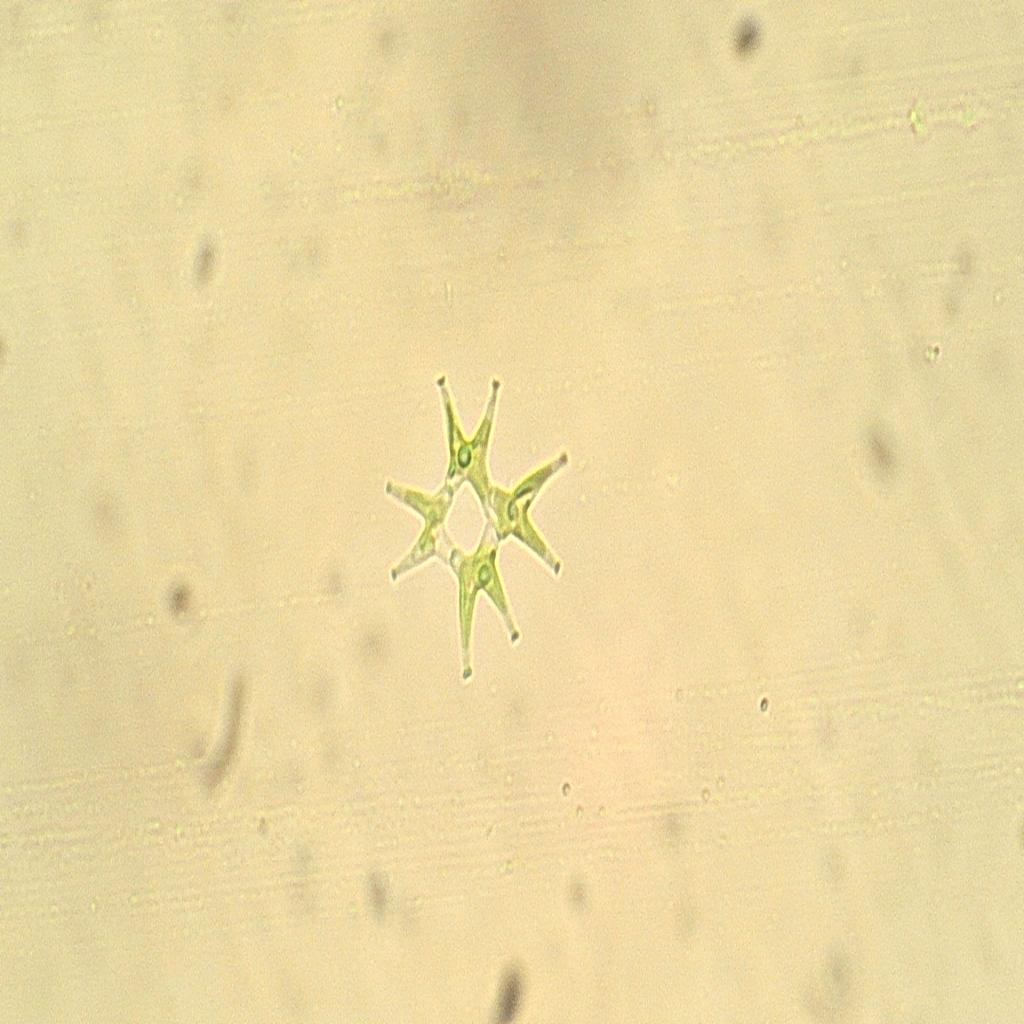Pediastrum_CF: (355, 355, 601, 708)
